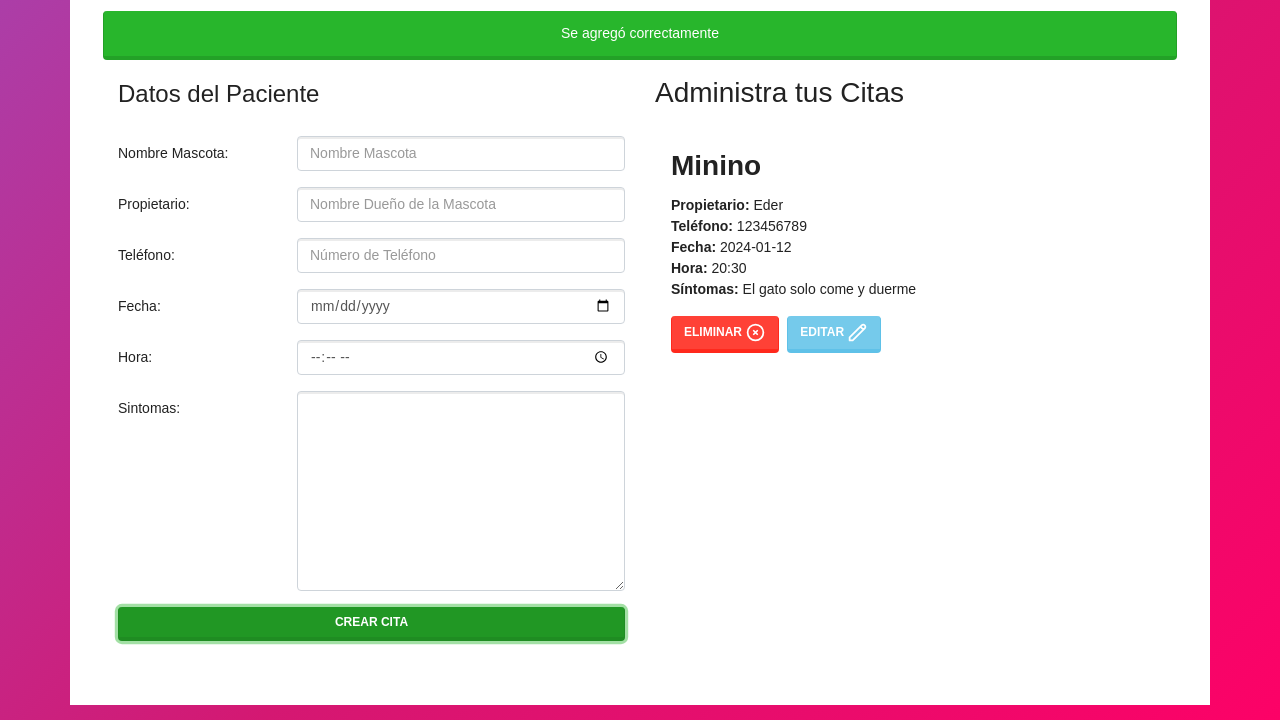
it: Llenar los campos para una nueva cita y la edita › Edita la cita
(page scrolled)
Click the button with test id "btn-editar": (834, 335) 787,316 -> 881,353
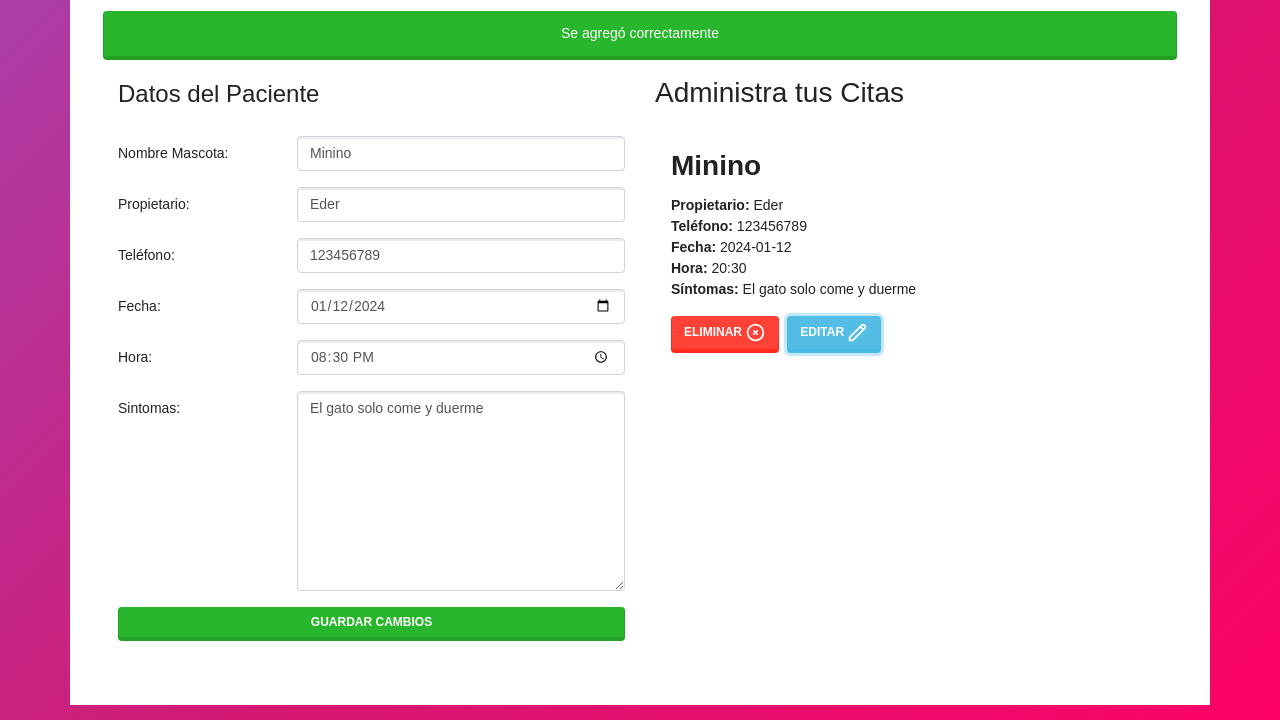
Replace the text in the field with test id "mascota-input" with "Nuevo Minino": (461, 154) 297,136 -> 625,171
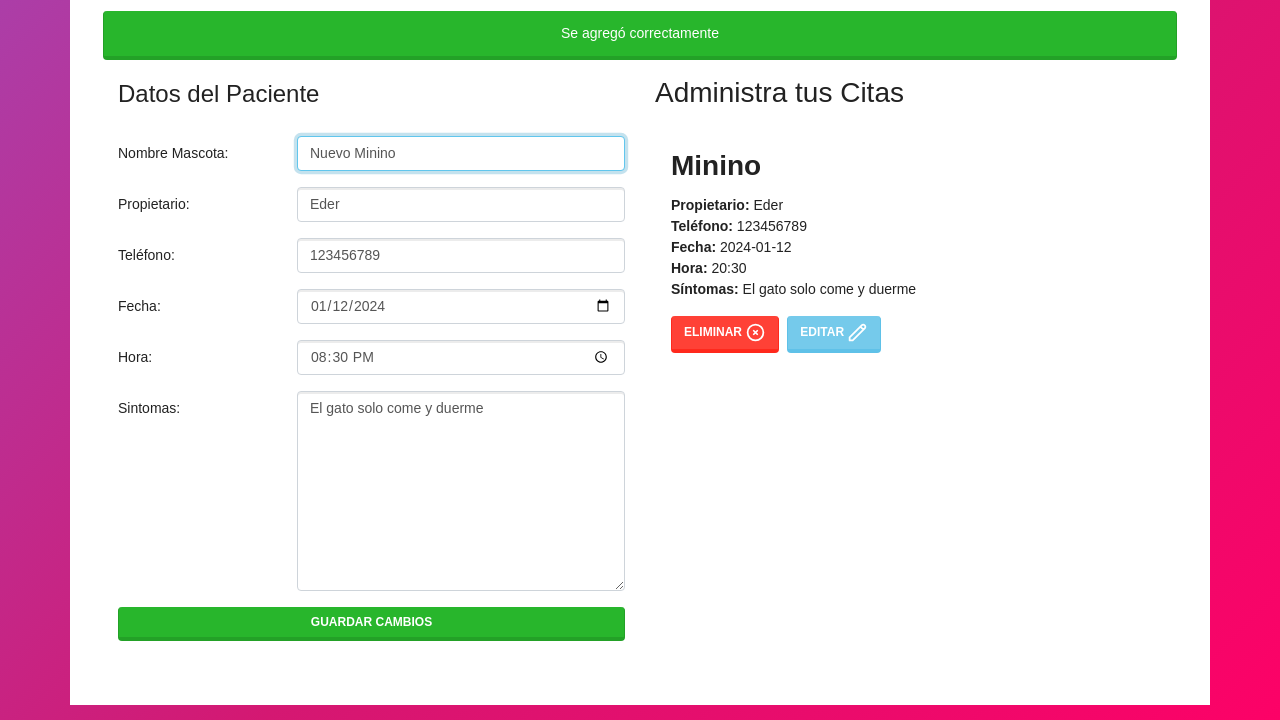
Click the button with test id "submit-cita": (372, 624) 118,607 -> 625,641
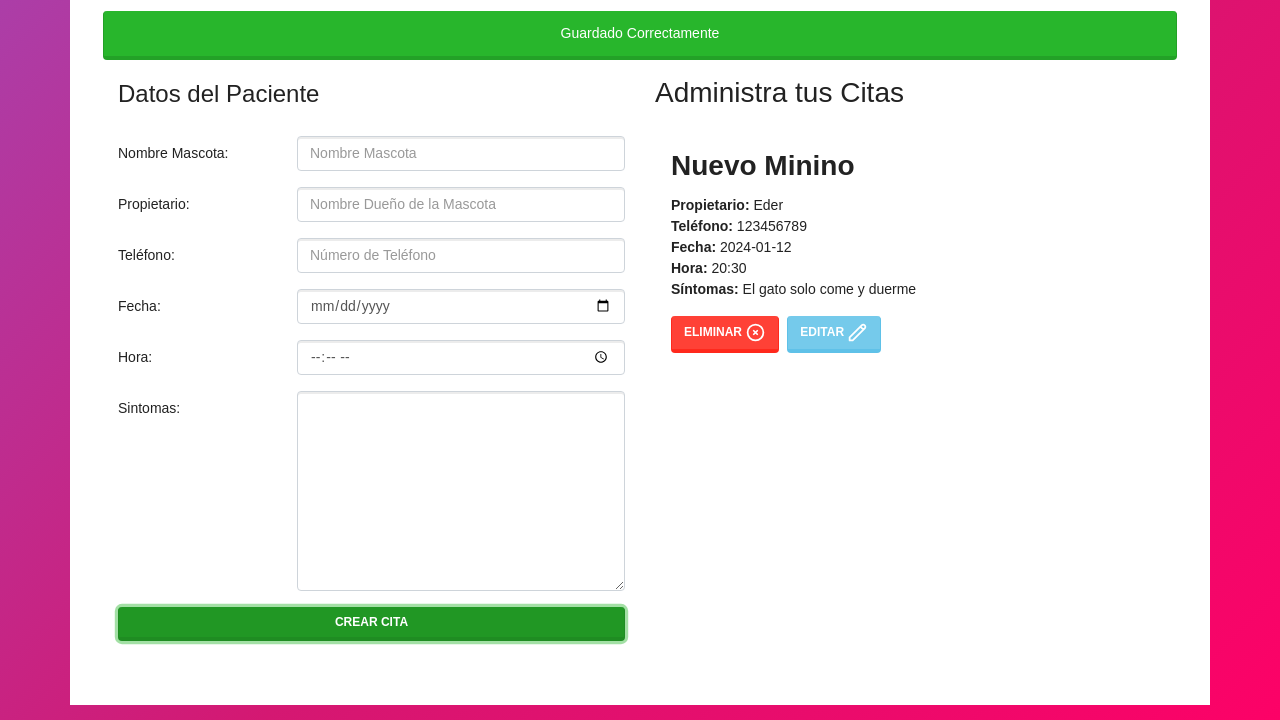
Now the text with test id "alerta" reads "Guardado Correctamente", box 103,11 -> 1177,60
